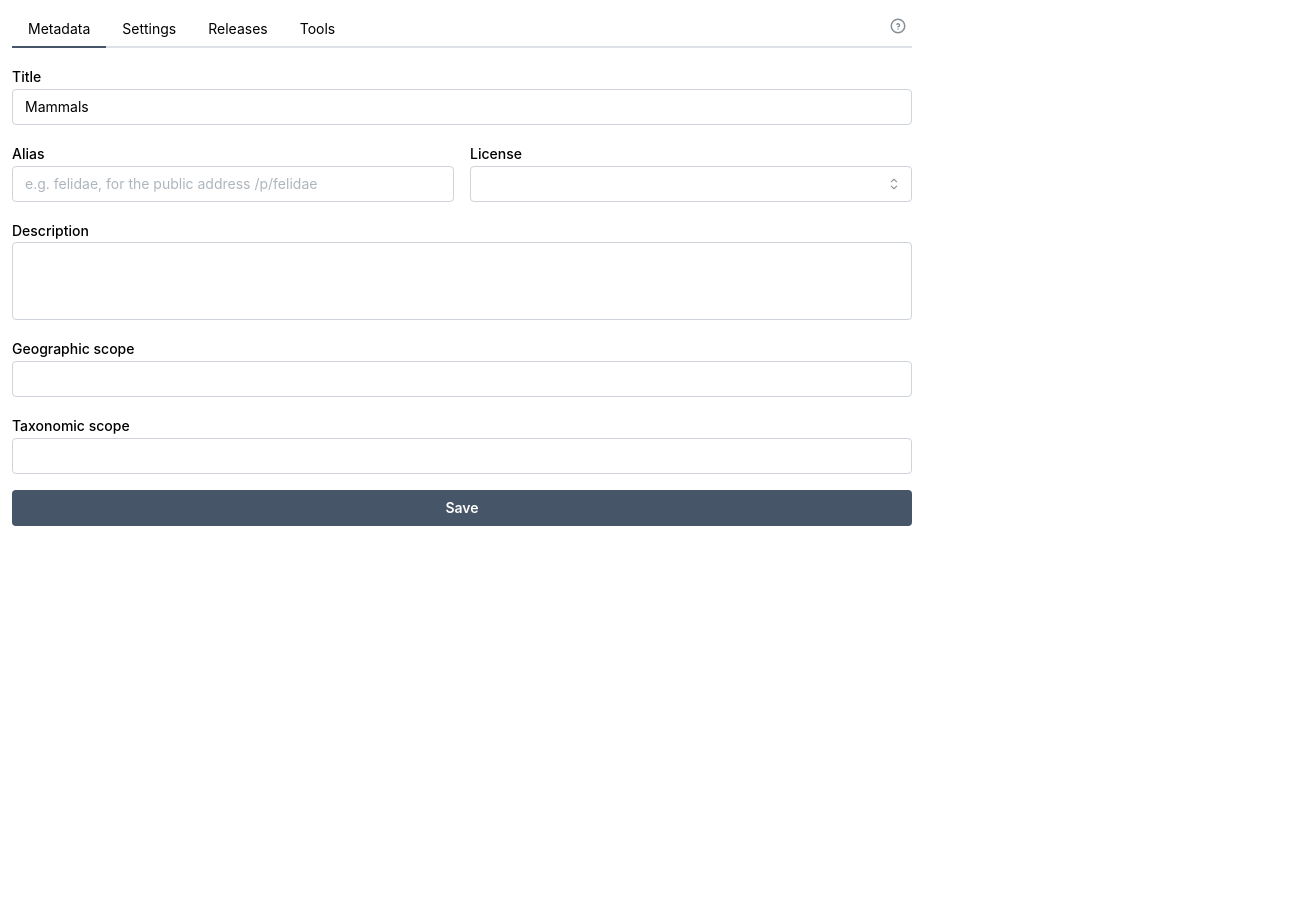
Test: starting an export while one is already in progress shows a friendly 409 notification
The image size is (1292, 912).
Expected: the field labelled "Title" holds "Mammals", [12,89,912,125]
Click the tab "Tools": x=317, y=30 [284,12,351,48]
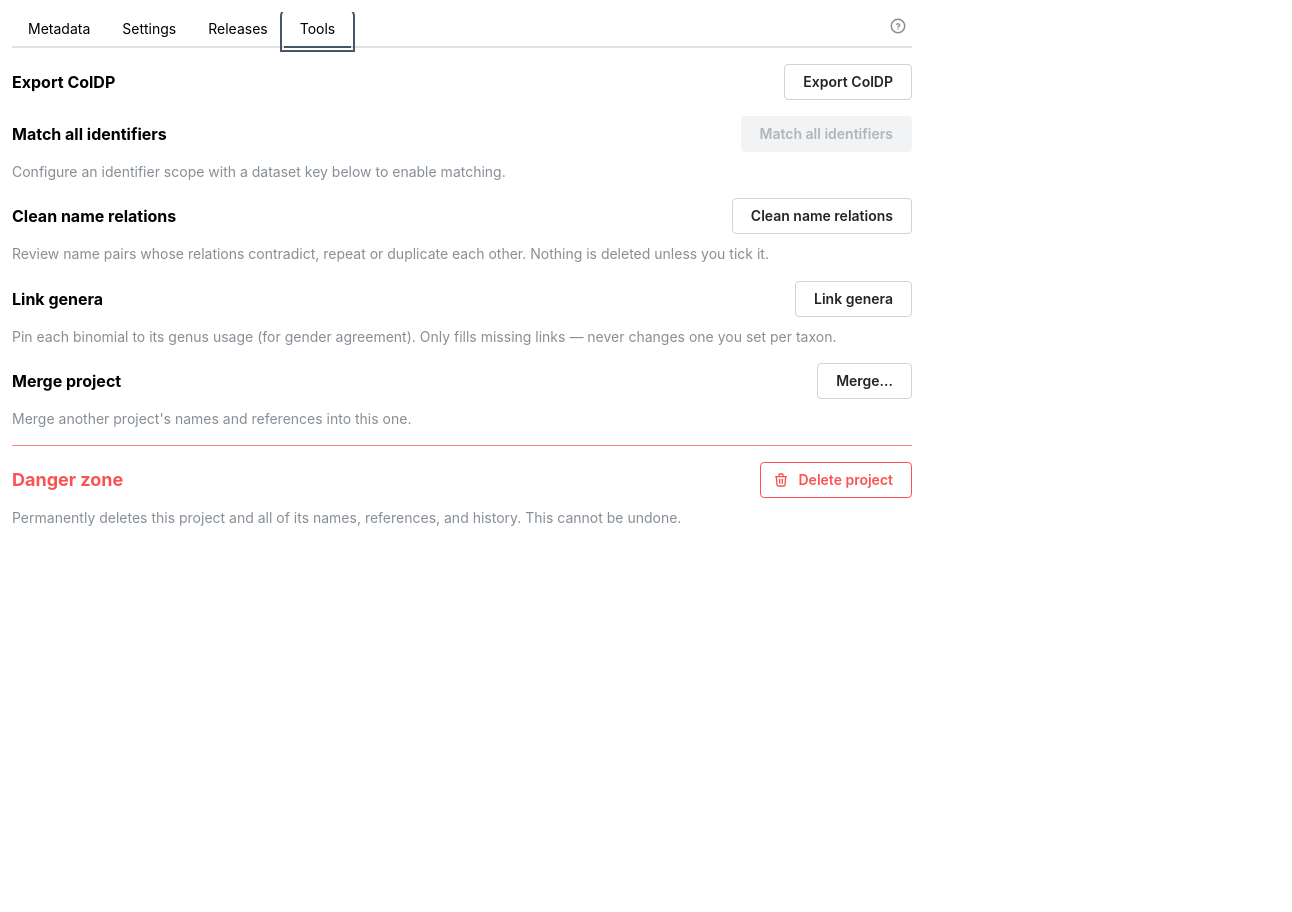
Click the button "Export ColDP": x=848, y=82 [784,64,912,100]
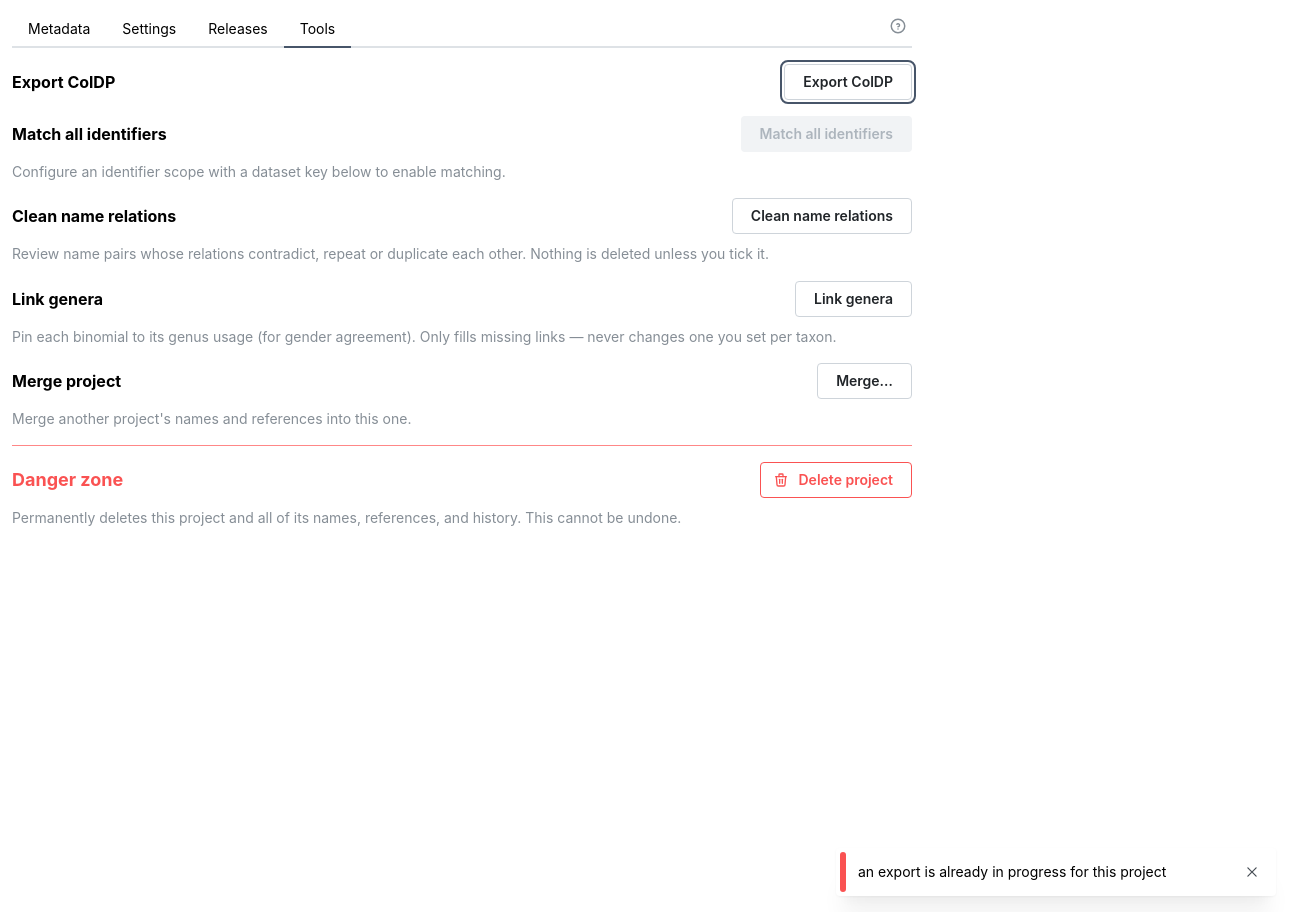
Now the text "an export is already in progress for this project" is shown, box [858,863,1166,880]
